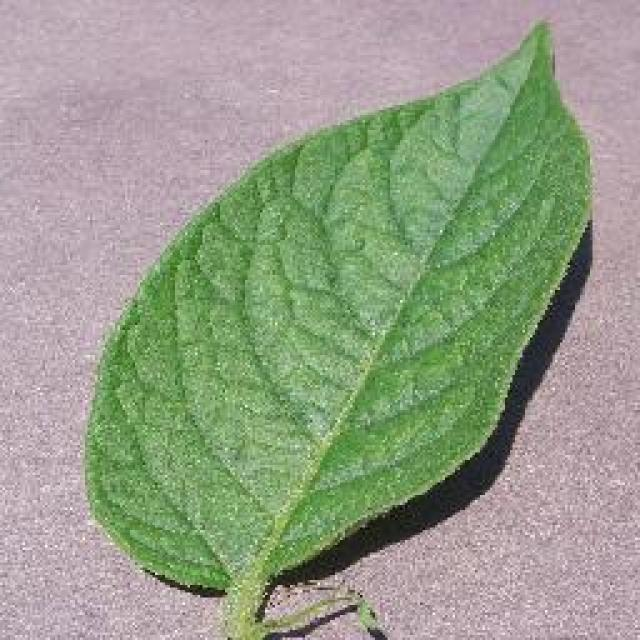Potato: (80, 15, 592, 637)
